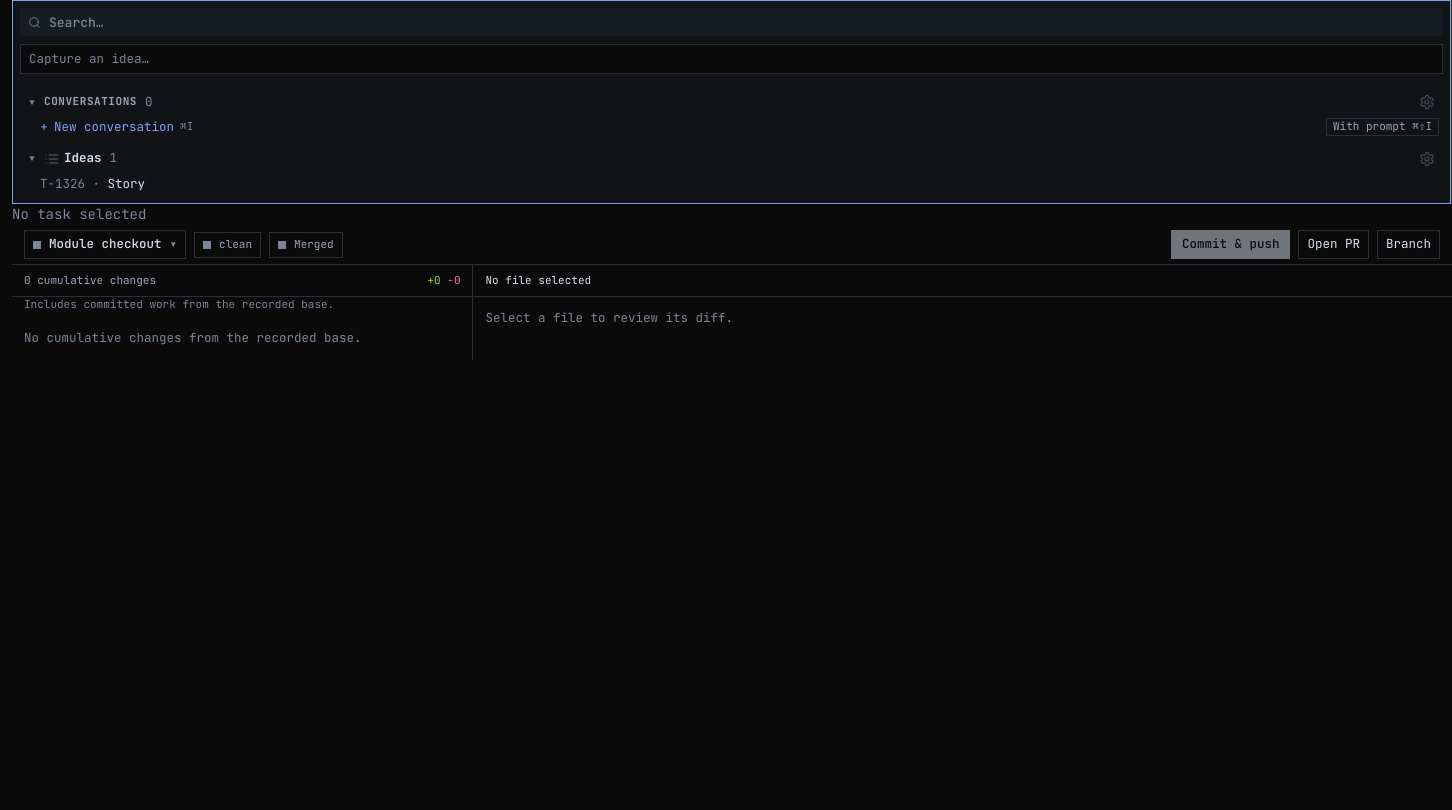
Test case: overhaul acceptance - merged worktree cleanup › [overhaul-200] explains cleanup blocker pull_request_closed_unmerged without offering removal
Step 1. Click the button "Branch" → (1408, 245), box [1377,230,1440,259]
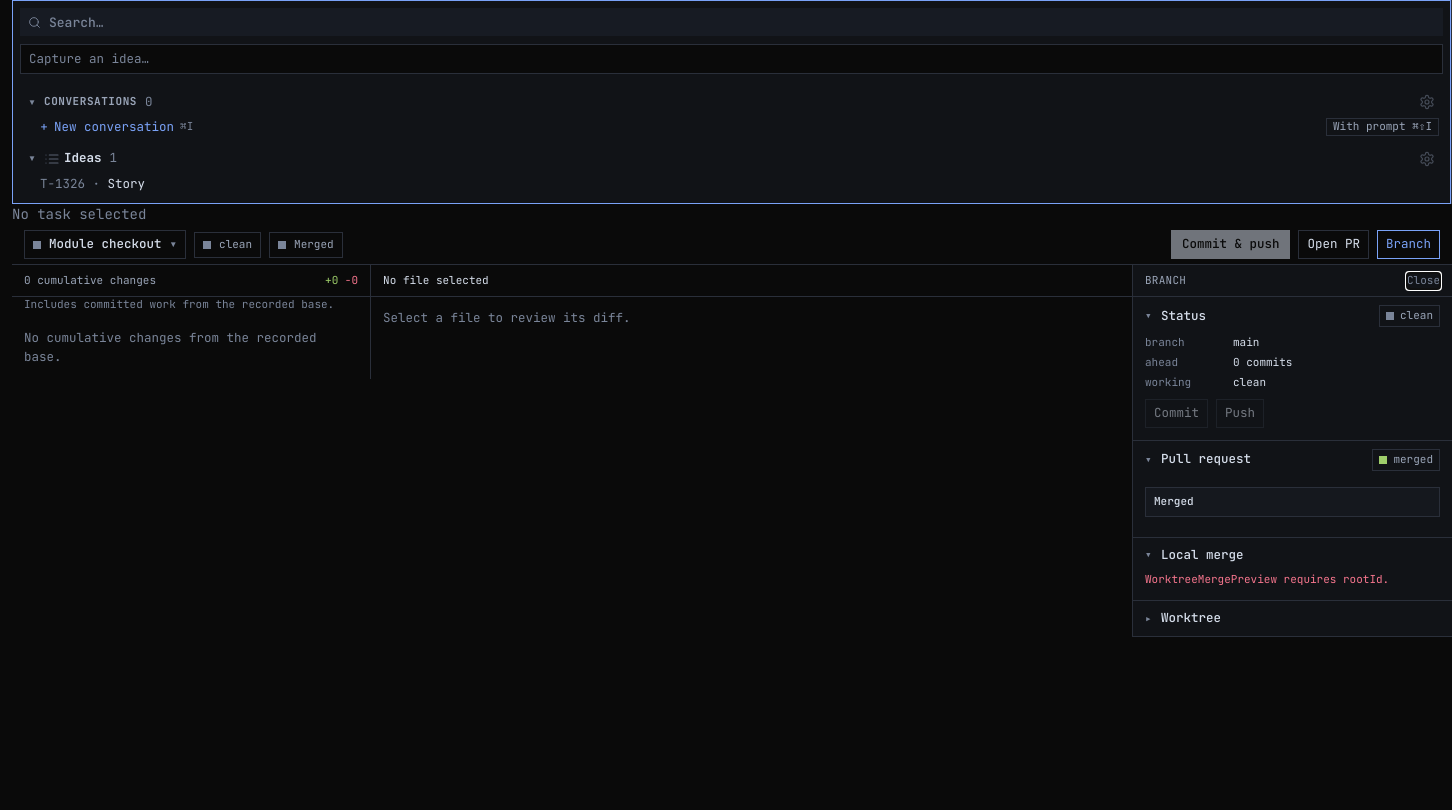
Expected: the element with test id "changes-branch-inspector" is shown, [1132,265,1451,637]
Step 2. Click the heading "▸ Worktree" → (1183, 618), box [1145,609,1221,626]
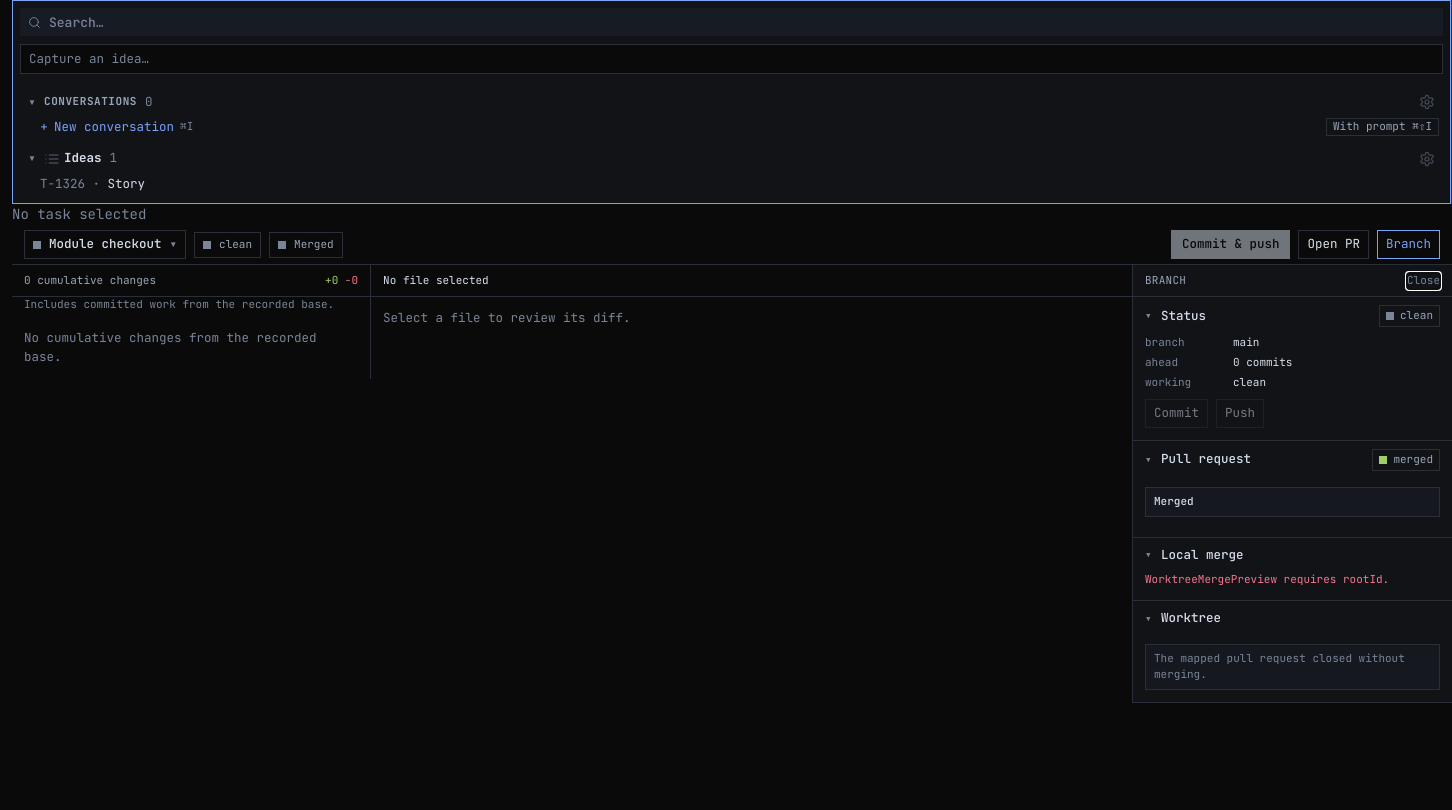
Expected: the text named "Worktree cleanup status" reads "The mapped pull request closed without merging.", [1154,651,1405,681]
